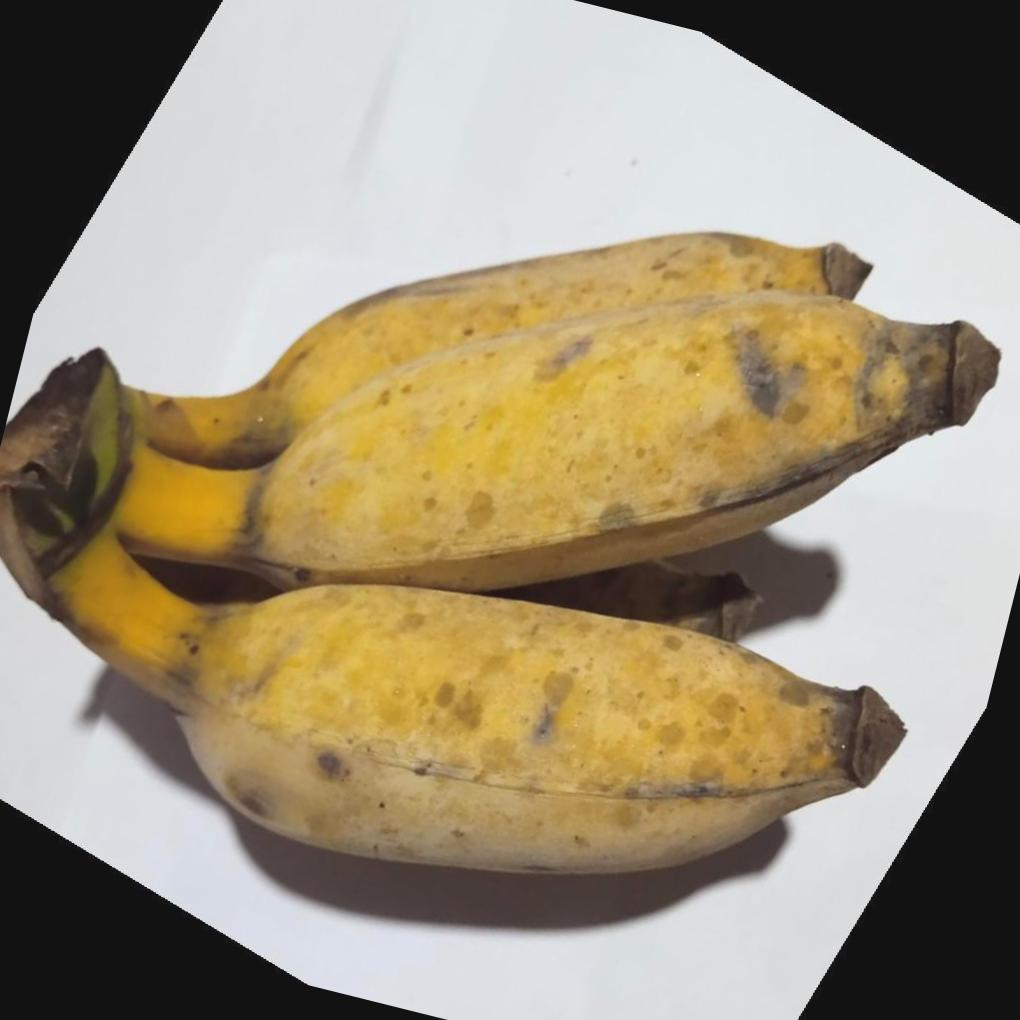Banana Ripe: (19, 73, 1020, 741), (0, 460, 974, 1020)
